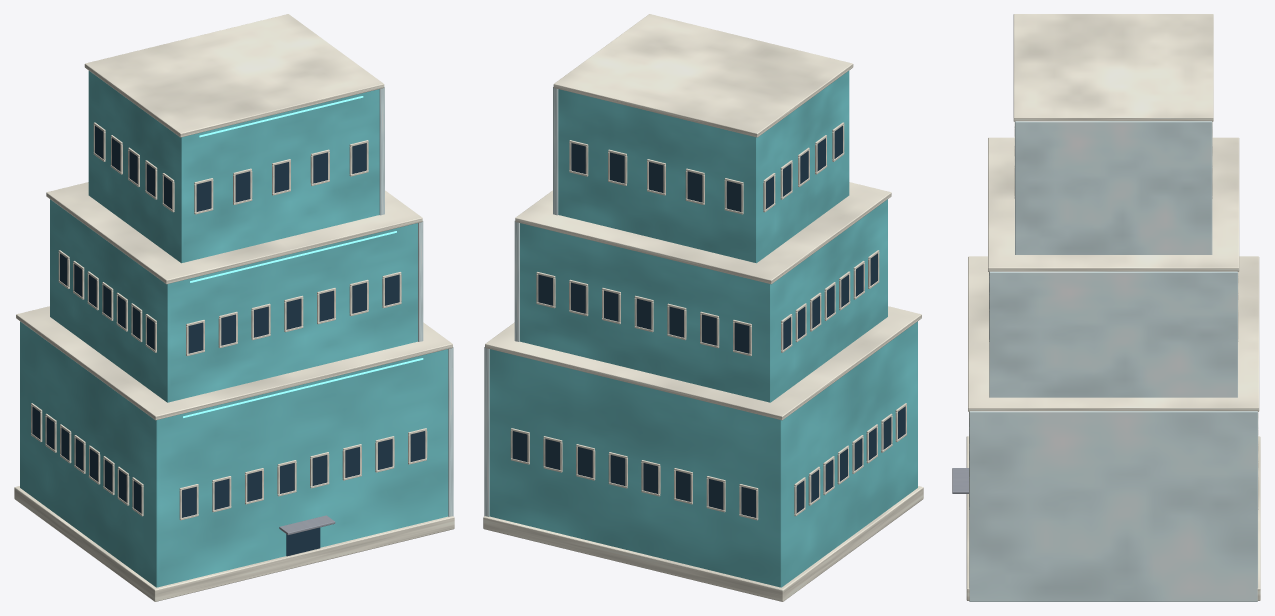
File: bldg_aqua_arcade.glb
3 views of the same model, side by side, from view 1: azimuth 30°, elevation 25°; view 2: azimuth 150°, elevation 25°; view 3: azimuth 270°, elevation 25° (orthographic). The views are drawn at different scales.
Visible parts, largest first — view 1: bldg_aqua_arcade_band_0_wall, bldg_aqua_arcade_band_1_wall, bldg_aqua_arcade_band_2_wall, bldg_aqua_arcade_band_2_cornice, bldg_aqua_arcade_band_1_cornice, bldg_aqua_arcade_band_0_cornice, bldg_aqua_arcade_plinth, bldg_aqua_arcade_band_0_pilaster, bldg_aqua_arcade_band_2_pilaster, bldg_aqua_arcade_entrance, bldg_aqua_arcade_band_1_pilaster, bldg_aqua_arcade_band_0_neon; view 2: bldg_aqua_arcade_band_0_wall, bldg_aqua_arcade_band_1_wall, bldg_aqua_arcade_band_2_wall, bldg_aqua_arcade_band_2_cornice, bldg_aqua_arcade_band_1_cornice, bldg_aqua_arcade_band_0_cornice, bldg_aqua_arcade_plinth, bldg_aqua_arcade_band_0_pilaster, bldg_aqua_arcade_band_2_pilaster, bldg_aqua_arcade_band_1_pilaster; view 3: bldg_aqua_arcade_band_0_pilaster, bldg_aqua_arcade_band_1_pilaster, bldg_aqua_arcade_band_2_pilaster, bldg_aqua_arcade_band_2_cornice, bldg_aqua_arcade_band_1_cornice, bldg_aqua_arcade_band_0_cornice, bldg_aqua_arcade_plinth, bldg_aqua_arcade_canopy.
Boxes of the visible parts, left/top/right/bottom form: bldg_aqua_arcade_band_0_wall: left=20, top=321, right=448, bottom=587; bldg_aqua_arcade_band_1_wall: left=50, top=199, right=417, bottom=402; bldg_aqua_arcade_band_2_wall: left=88, top=71, right=379, bottom=263; bldg_aqua_arcade_band_2_cornice: left=84, top=14, right=384, bottom=137; bldg_aqua_arcade_band_1_cornice: left=46, top=182, right=422, bottom=284; bldg_aqua_arcade_band_0_cornice: left=16, top=306, right=452, bottom=420; bldg_aqua_arcade_plinth: left=14, top=486, right=454, bottom=601; bldg_aqua_arcade_band_0_pilaster: left=448, top=347, right=453, bottom=516; bldg_aqua_arcade_band_2_pilaster: left=379, top=87, right=384, bottom=215; bldg_aqua_arcade_entrance: left=286, top=527, right=320, bottom=556; bldg_aqua_arcade_band_1_pilaster: left=418, top=220, right=423, bottom=341; bldg_aqua_arcade_band_0_neon: left=183, top=358, right=423, bottom=417; bldg_aqua_arcade_band_0_wall: left=489, top=321, right=917, bottom=587; bldg_aqua_arcade_band_1_wall: left=520, top=199, right=887, bottom=402; bldg_aqua_arcade_band_2_wall: left=558, top=71, right=849, bottom=263; bldg_aqua_arcade_band_2_cornice: left=553, top=14, right=853, bottom=137; bldg_aqua_arcade_band_1_cornice: left=515, top=182, right=891, bottom=284; bldg_aqua_arcade_band_0_cornice: left=485, top=306, right=921, bottom=420; bldg_aqua_arcade_plinth: left=483, top=486, right=923, bottom=601; bldg_aqua_arcade_band_0_pilaster: left=484, top=347, right=489, bottom=516; bldg_aqua_arcade_band_2_pilaster: left=553, top=87, right=558, bottom=215; bldg_aqua_arcade_band_1_pilaster: left=514, top=220, right=519, bottom=341; bldg_aqua_arcade_band_0_pilaster: left=969, top=411, right=1257, bottom=601; bldg_aqua_arcade_band_1_pilaster: left=989, top=271, right=1237, bottom=397; bldg_aqua_arcade_band_2_pilaster: left=1015, top=121, right=1212, bottom=254; bldg_aqua_arcade_band_2_cornice: left=1013, top=14, right=1213, bottom=121; bldg_aqua_arcade_band_1_cornice: left=988, top=137, right=1239, bottom=271; bldg_aqua_arcade_band_0_cornice: left=968, top=256, right=1259, bottom=411; bldg_aqua_arcade_plinth: left=966, top=436, right=1260, bottom=600; bldg_aqua_arcade_canopy: left=952, top=468, right=968, bottom=493.
Size of the model in its own units: 21.51 by 30.25 by 18.35.
Materials: 6 (6 with a texture image).
